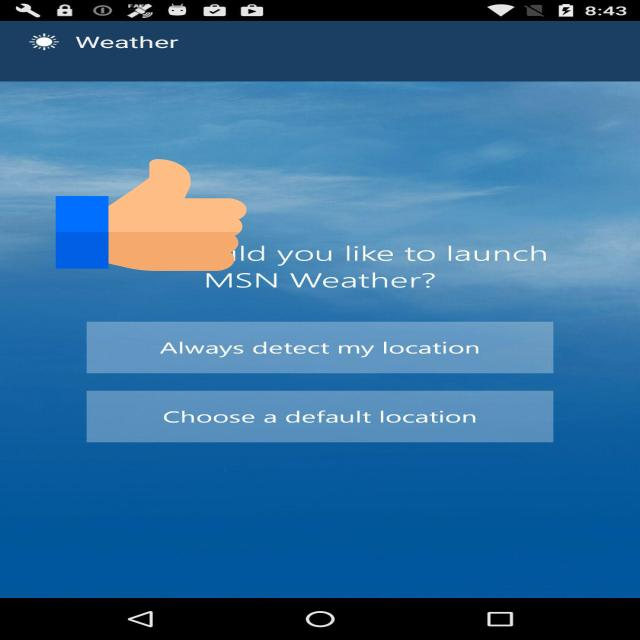privacy zuckering: (55, 156, 246, 274)
